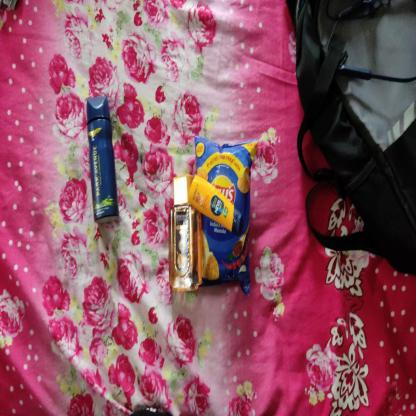indian_magic_masala: (196, 136, 257, 292)
